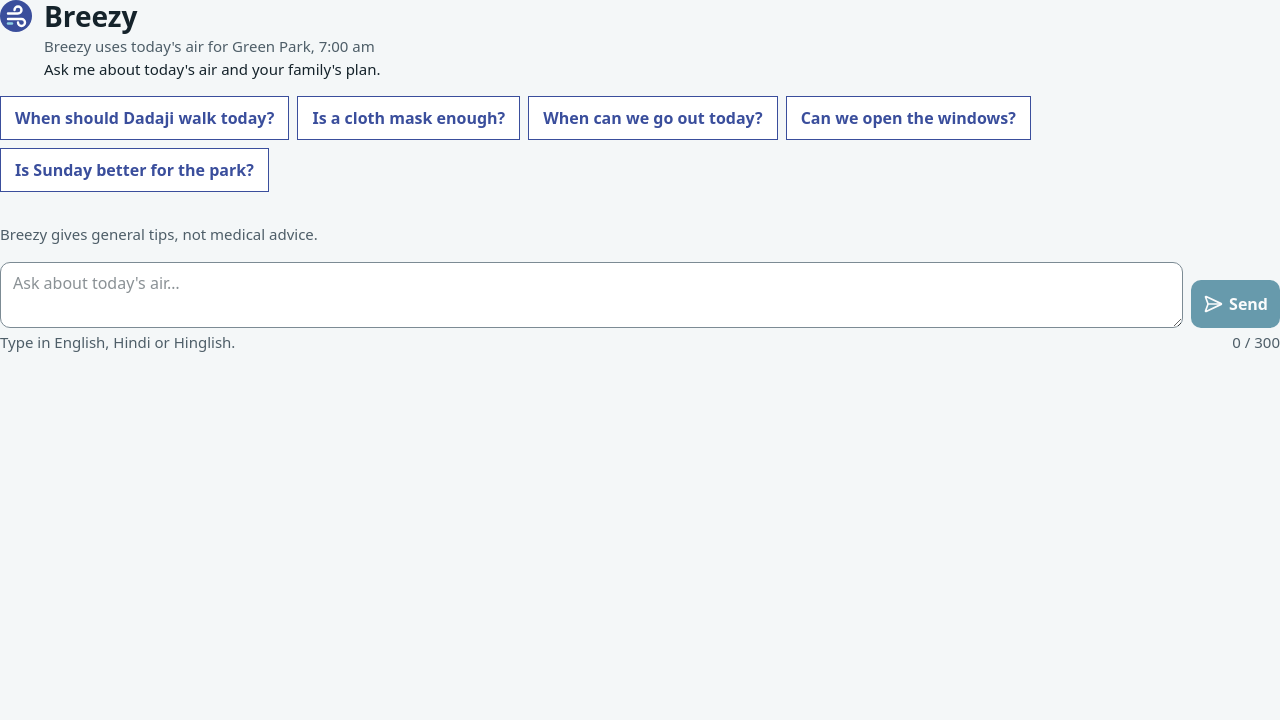
Test case: Breezy cards and errors › says the air changed when the server refuses the time, and keeps the sheet open
Type "Remind Dadaji" into the text box named "Your question for Breezy" at (592, 295), box x1=0 y1=262 x2=1183 y2=328
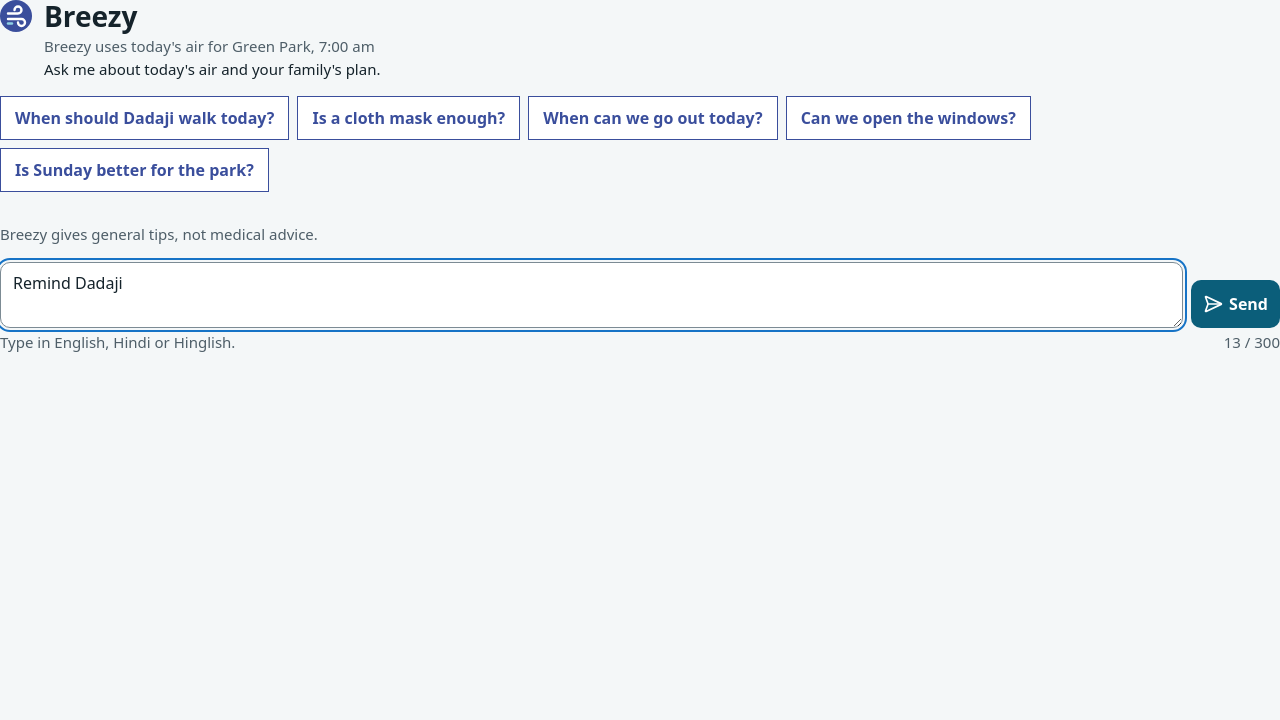
Click the button "Send" at (1236, 304), box x1=1191 y1=280 x2=1279 y2=328
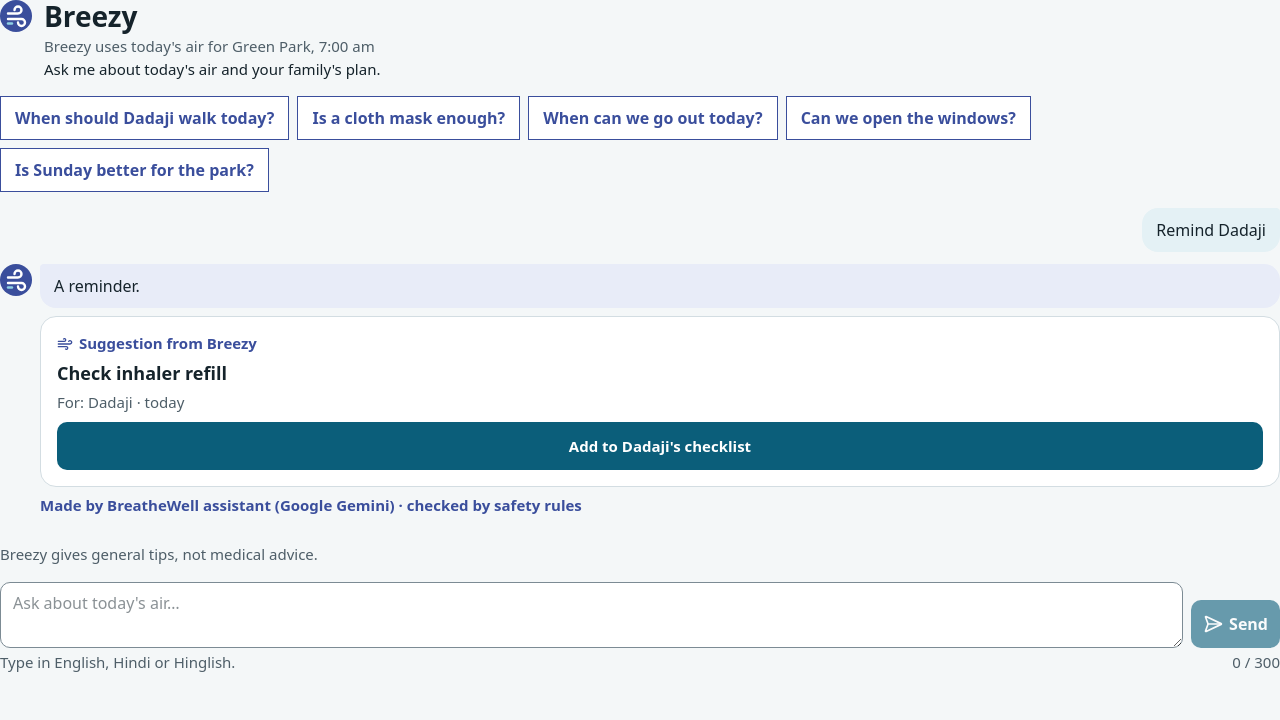
Click the button "Add to Dadaji's checklist" at (660, 446), box x1=57 y1=422 x2=1263 y2=470
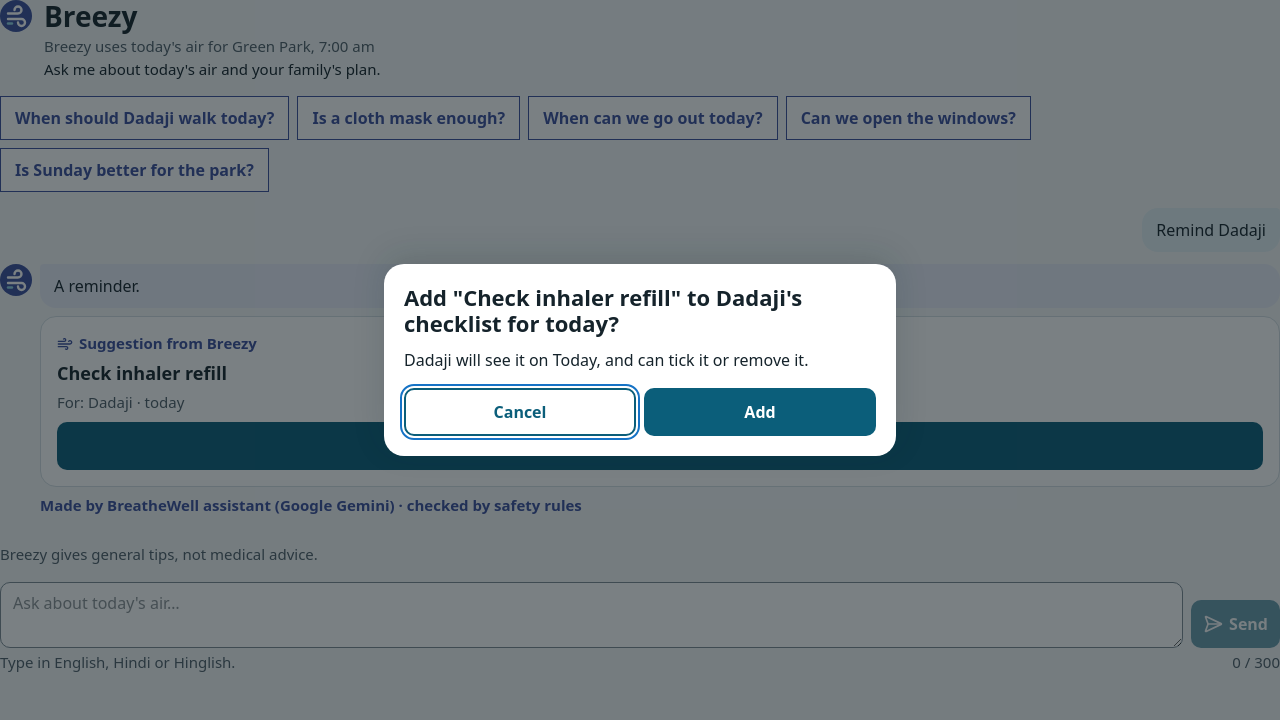
Click the button "Add" at (760, 412), box x1=644 y1=388 x2=876 y2=436
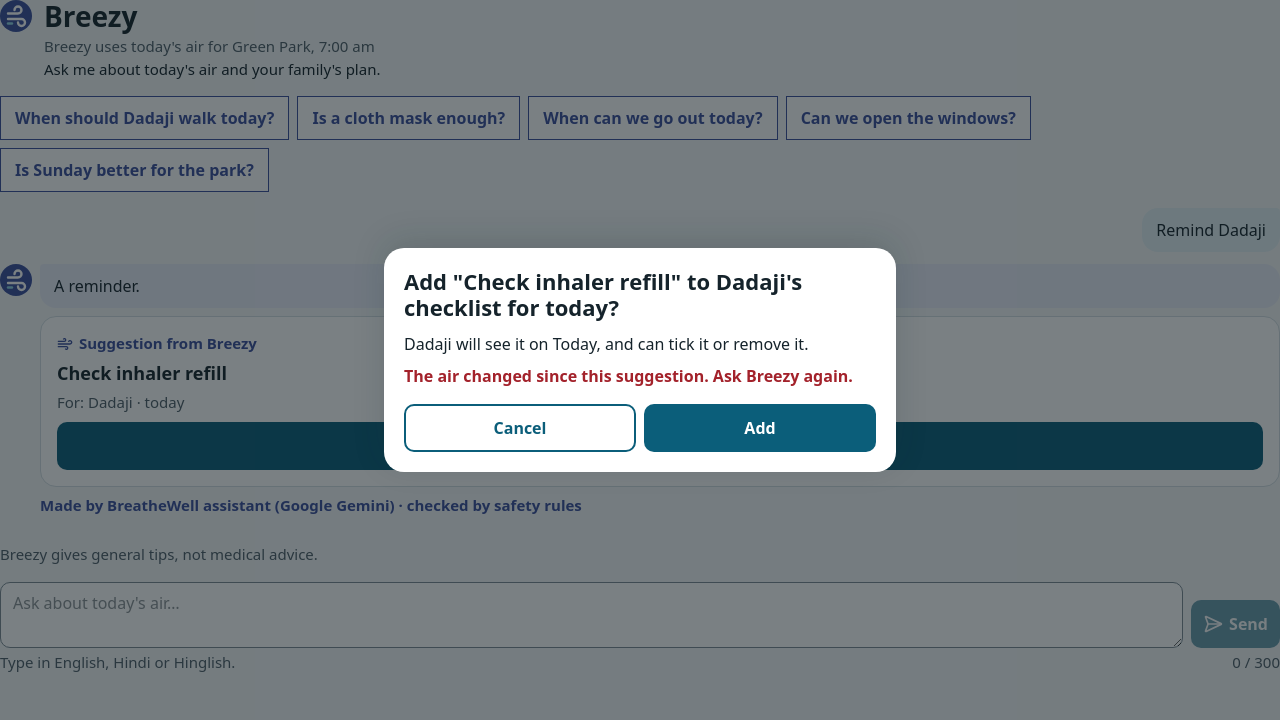
Now the text "The air changed since this suggestion. Ask Breezy again." is shown, box x1=404 y1=364 x2=876 y2=388
Click the button "Add" at (760, 428), box x1=644 y1=404 x2=876 y2=452
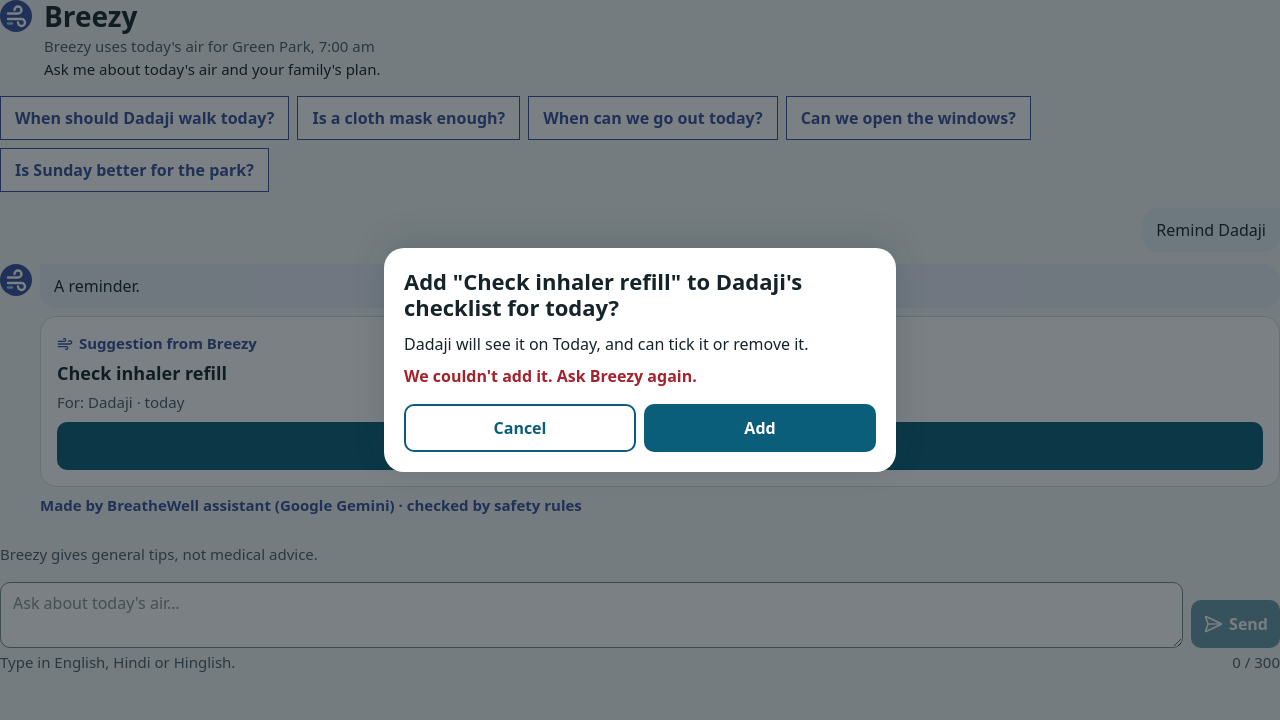
Now the text "We couldn't add it. Ask Breezy again." is shown, box x1=404 y1=365 x2=697 y2=387
